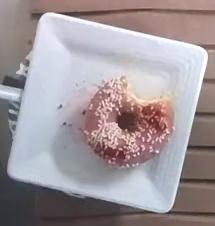donut: (79, 66, 172, 166)
